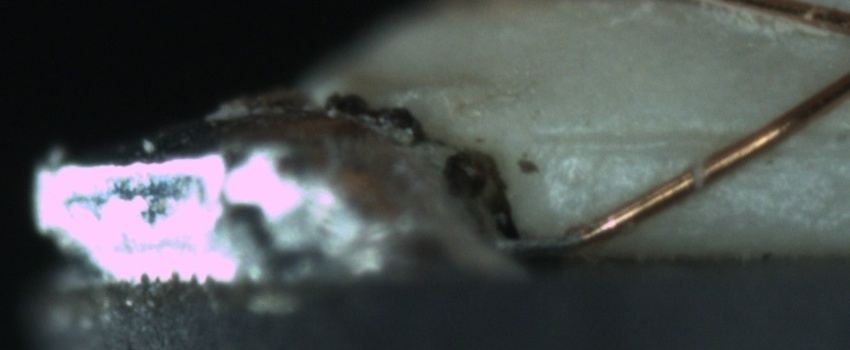DL: (542, 103, 848, 175)
